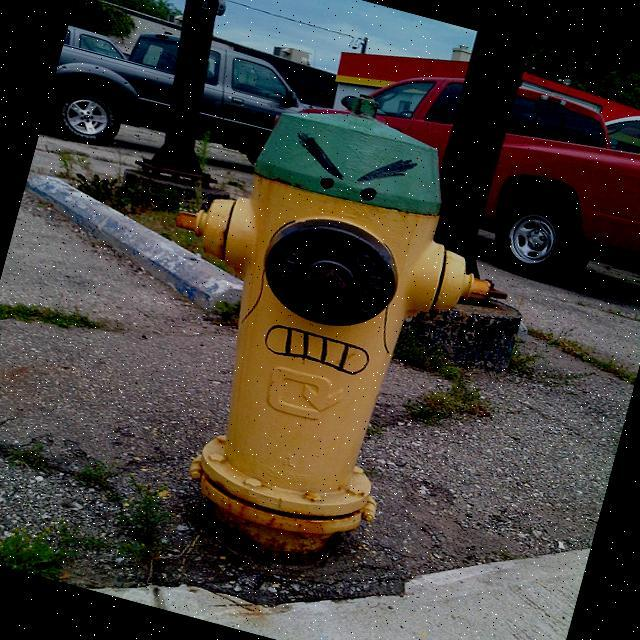fire_hydrant: (103, 60, 550, 598)
